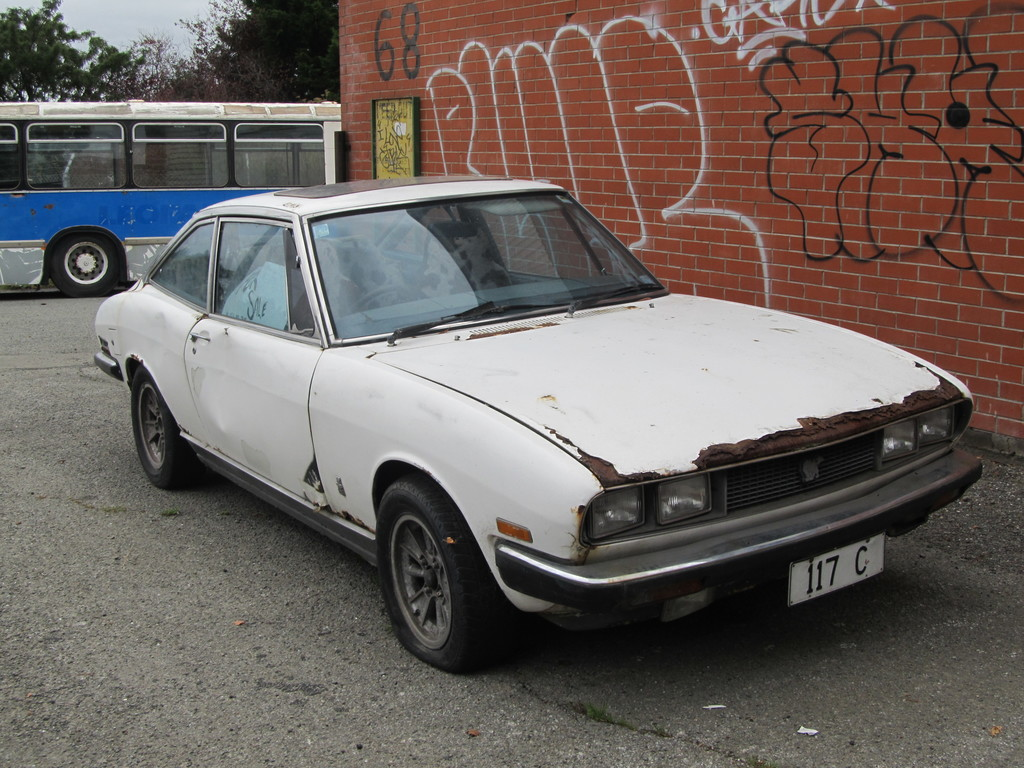Bus: (0, 96, 341, 297)
